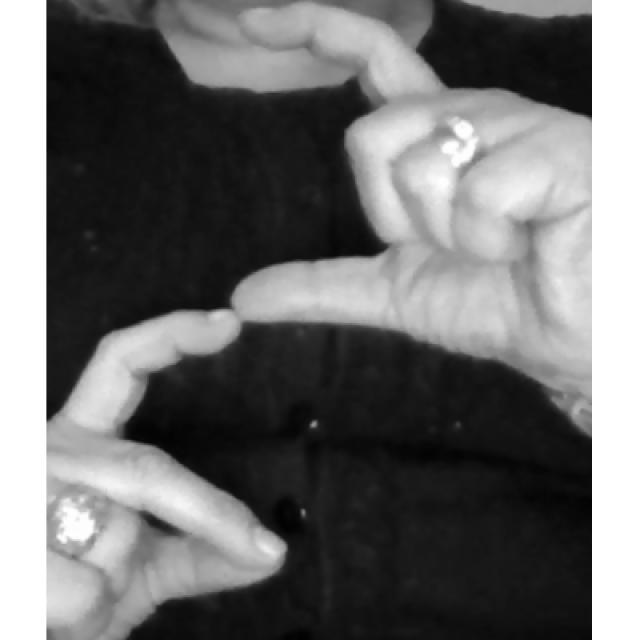S_: (49, 3, 593, 611)
